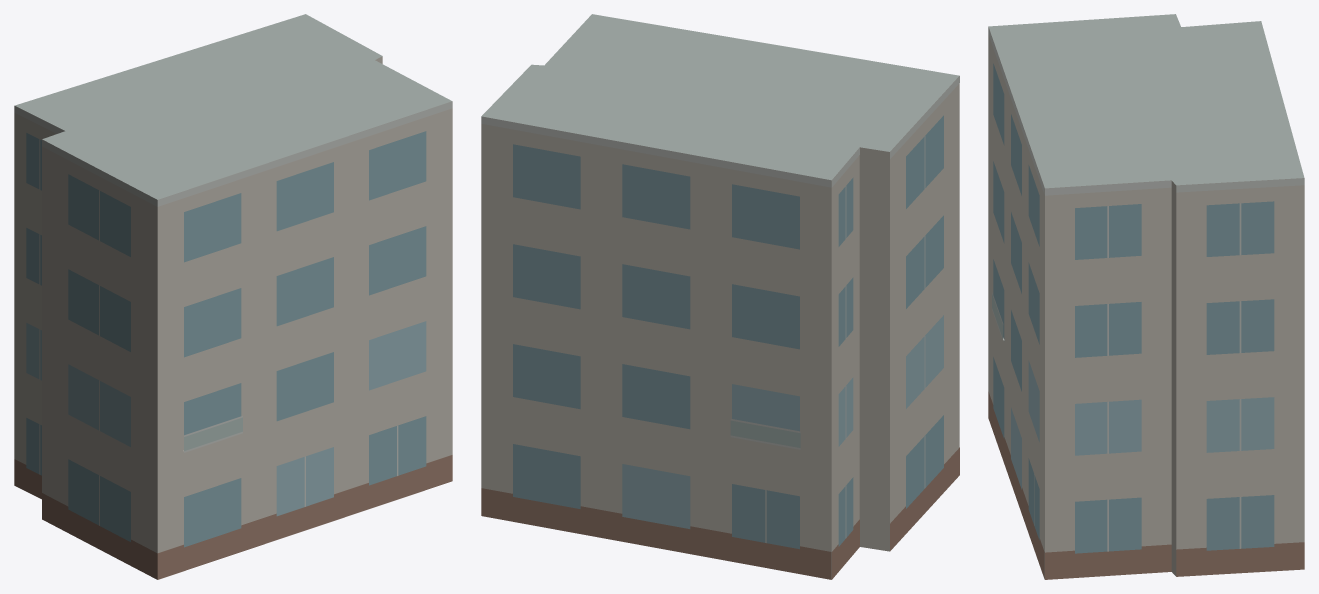
Rendered from survey-upis-32458099.glb.
3 views of the same model, side by side, from view 1: azimuth 30°, elevation 25°; view 2: azimuth 150°, elevation 25°; view 3: azimuth 270°, elevation 25° (orthographic). The views are drawn at different scales.
Parts seen in each view (by area): view 1: survey-upis-32458099.tmp; view 2: survey-upis-32458099.tmp; view 3: survey-upis-32458099.tmp.
Part boxes in pixels (bbox=[...]): survey-upis-32458099.tmp: bbox=[14, 14, 452, 579]; survey-upis-32458099.tmp: bbox=[481, 14, 959, 579]; survey-upis-32458099.tmp: bbox=[988, 14, 1304, 579].
Bounding box in the file's own units: 12.53 × 13.1 × 9.6.
